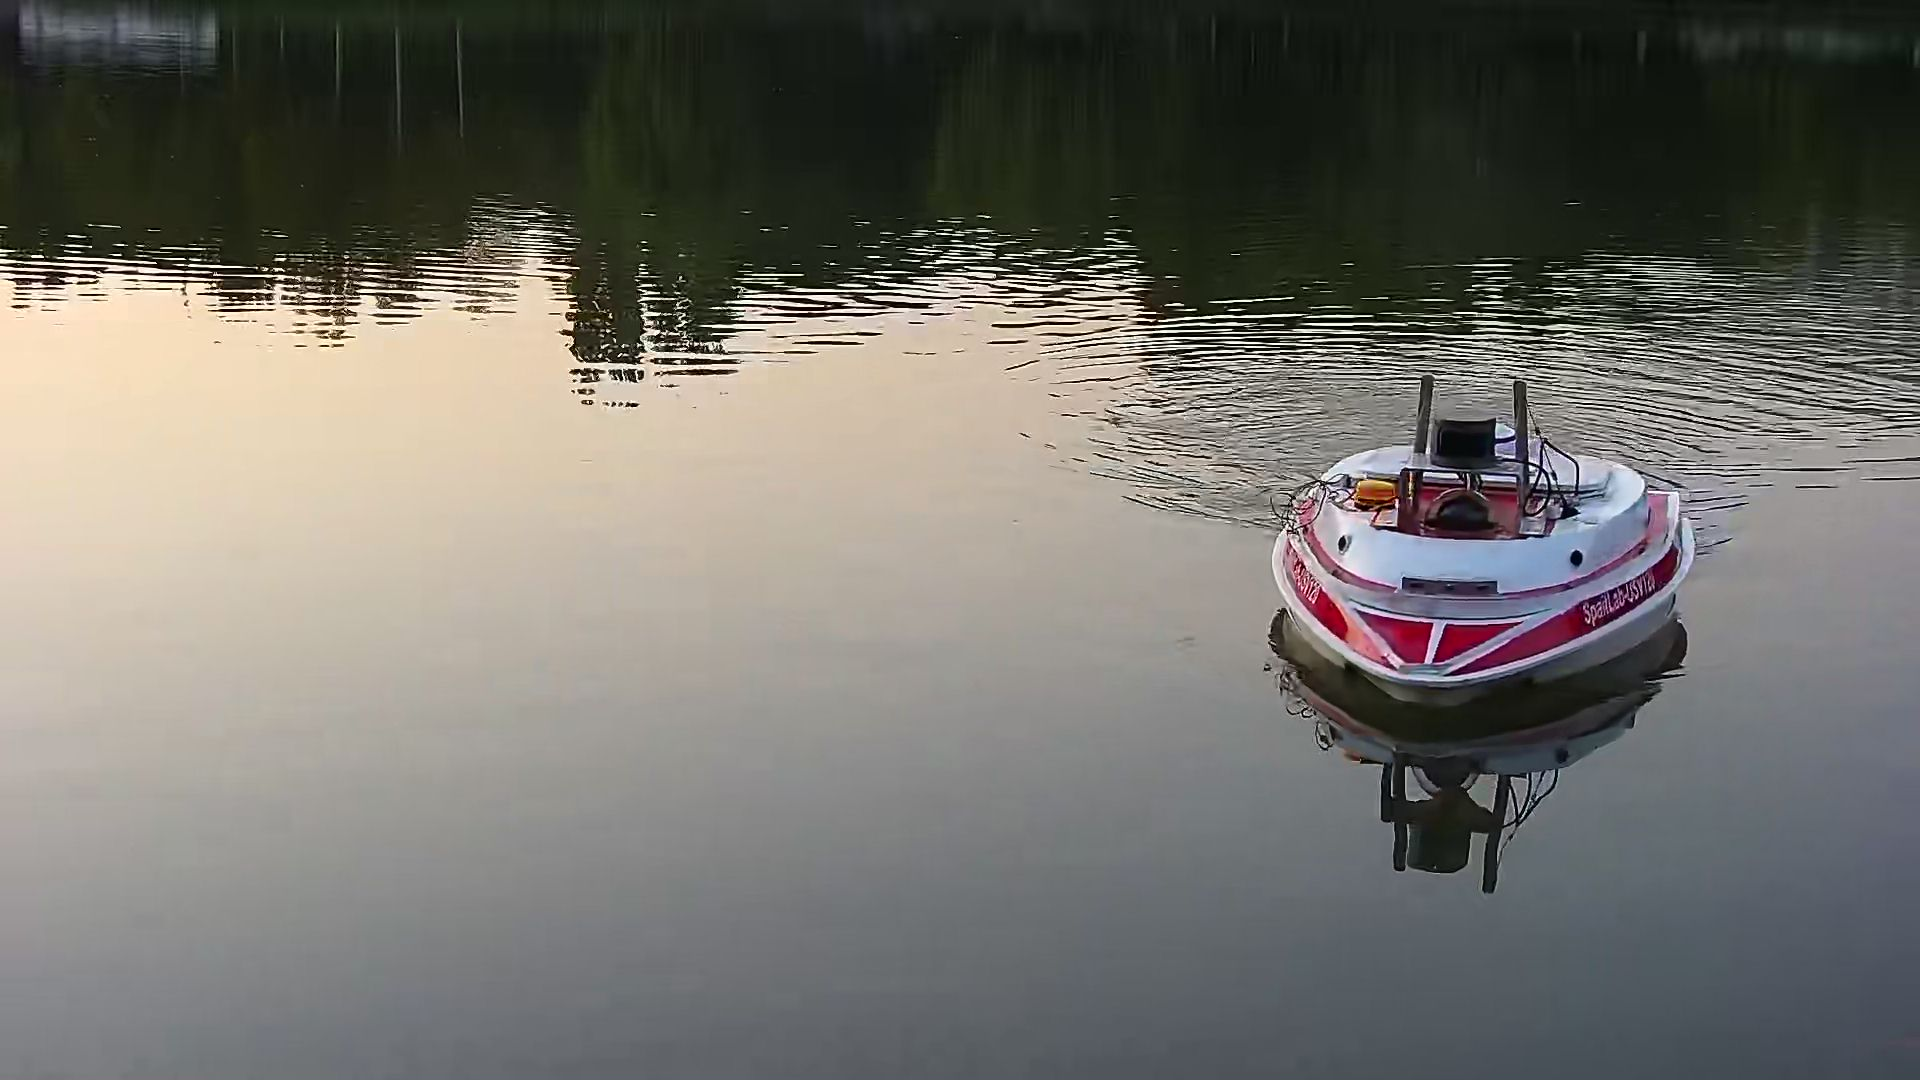boat: (1258, 371, 1701, 719)
